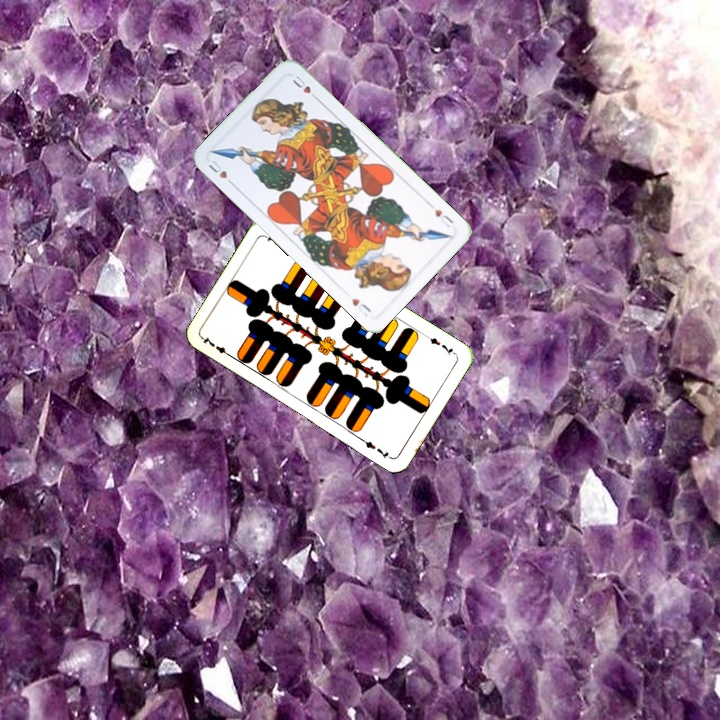E7: (199, 332, 235, 360), (421, 331, 458, 358)
HU: (204, 155, 237, 189), (425, 199, 456, 230)
